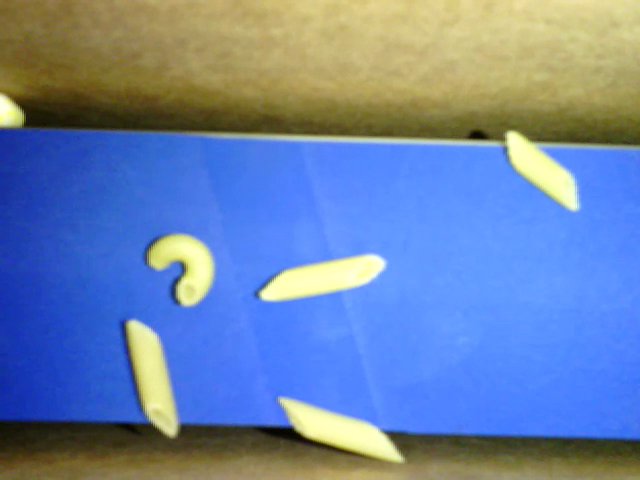elbow: (146, 234, 216, 306)
penne: (277, 395, 403, 463), (126, 319, 179, 439), (258, 254, 386, 302), (505, 129, 579, 211)
